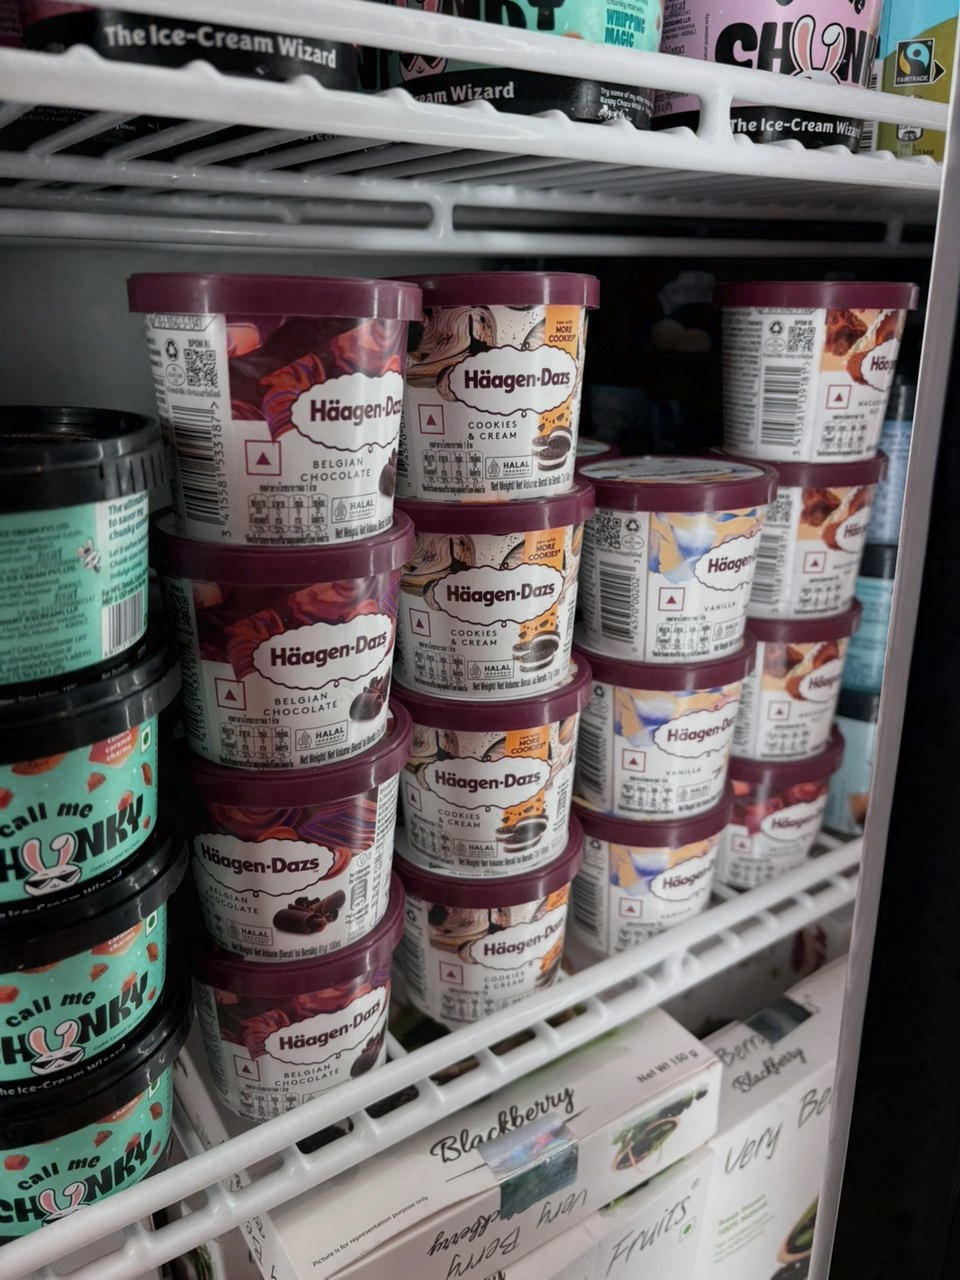Haagen-Dazs IceCream Tub: (107, 258, 406, 550), (138, 739, 412, 978), (124, 520, 407, 751), (158, 881, 389, 1147), (386, 266, 614, 505), (368, 663, 595, 894), (372, 476, 599, 703), (374, 814, 566, 1029), (710, 278, 918, 476), (568, 627, 748, 827), (580, 454, 759, 654), (564, 792, 729, 967), (723, 437, 878, 621), (710, 594, 860, 762), (697, 737, 842, 894)
